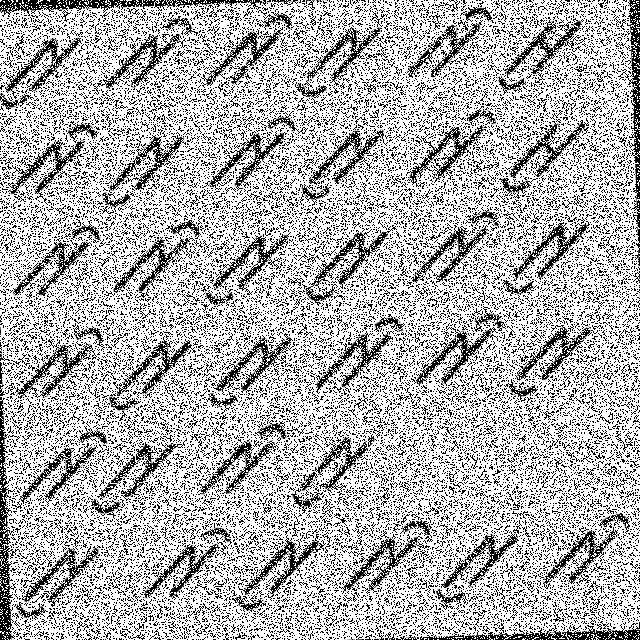waw: (234, 521, 324, 623), (10, 537, 105, 633), (432, 516, 520, 616), (290, 420, 383, 512), (296, 12, 387, 106), (503, 312, 598, 402), (503, 213, 598, 301), (98, 122, 192, 208), (298, 119, 387, 209), (200, 223, 290, 309), (103, 329, 194, 414), (300, 226, 396, 306), (0, 27, 86, 116), (202, 328, 296, 409), (91, 444, 176, 526)
way: (534, 505, 633, 598), (11, 319, 106, 412), (412, 304, 504, 398), (310, 307, 407, 395), (400, 0, 497, 88), (340, 512, 434, 602), (406, 202, 501, 290), (108, 212, 202, 300), (194, 416, 291, 500), (202, 10, 296, 95), (8, 216, 104, 299), (4, 118, 98, 200), (404, 106, 498, 188), (138, 524, 234, 604), (99, 14, 197, 92), (202, 115, 296, 191), (16, 428, 103, 502)
